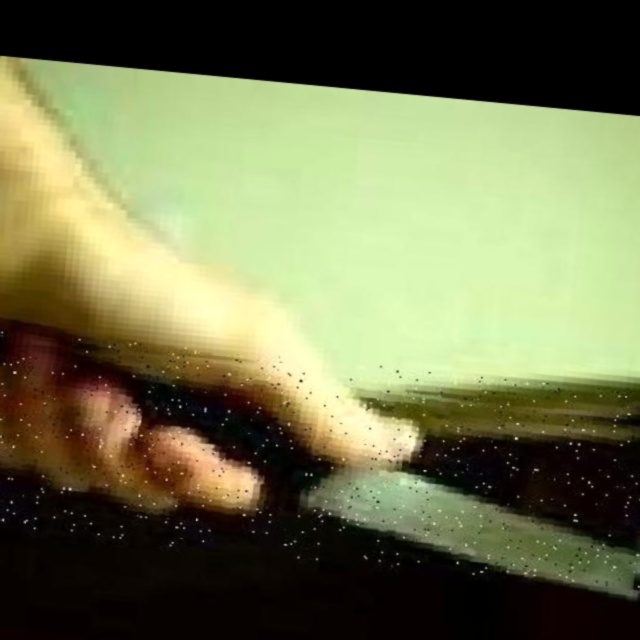Sharp-Object: (0, 328, 640, 592)
